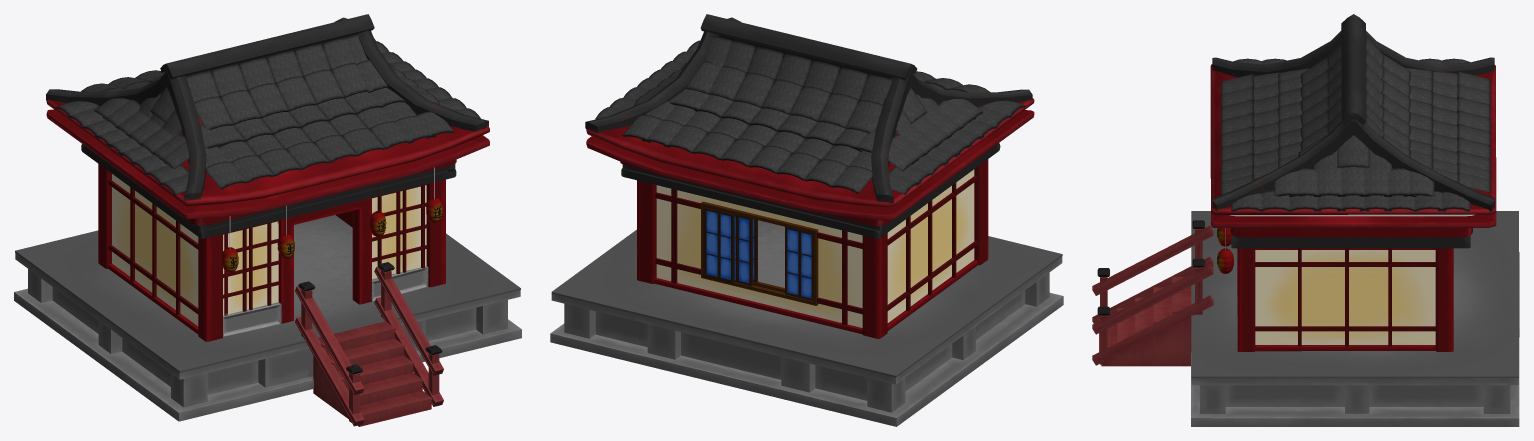
The model's file is casaentera.fbx.
The picture shows the model from 3 angles, left to right: view 1: azimuth 30°, elevation 25°; view 2: azimuth 150°, elevation 25°; view 3: azimuth 270°, elevation 25°; orthographic projection.
Parts seen in each view (by area): view 1: Base, Tejado, BaseCasa, Tejas109, Tejas110, Tejas108, Tejas111, Tejas112, Tejas107, Tejas114, Tejas116, Tejas117 (+26 smaller); view 2: Base, Tejado, BaseCasa, Ventana2, Tejas069, Tejas072, Tejas071, Tejas070, Tejas068, Tejas073, Tejas077, Tejas078 (+31 smaller); view 3: Base, Tejado, BaseCasa, Palo_019, Palo_016, Tejas019, Tejas012, tabla techo01, Tejas015, Tejas013, Tejas014, Tejas016 (+30 smaller).
Part boxes in pixels (x1,y1,x2,y2): Base: [14, 215, 521, 426]; Tejado: [46, 14, 489, 238]; BaseCasa: [98, 164, 445, 341]; Tejas109: [275, 76, 316, 111]; Tejas110: [248, 83, 289, 117]; Tejas108: [303, 69, 344, 104]; Tejas111: [220, 89, 261, 124]; Tejas112: [194, 96, 233, 129]; Tejas107: [331, 62, 368, 97]; Tejas114: [294, 44, 330, 75]; Tejas116: [239, 57, 275, 89]; Tejas117: [211, 64, 247, 95]; Base: [550, 220, 1063, 426]; Tejado: [585, 14, 1034, 238]; BaseCasa: [637, 159, 988, 338]; Ventana2: [701, 201, 818, 305]; Tejas069: [733, 72, 775, 107]; Tejas072: [817, 93, 859, 128]; Tejas071: [789, 86, 831, 121]; Tejas070: [761, 79, 803, 114]; Tejas068: [708, 65, 747, 100]; Tejas073: [846, 100, 882, 133]; Tejas077: [804, 60, 840, 92]; Tejas078: [832, 67, 868, 99]; Base: [1092, 211, 1519, 426]; Tejado: [1210, 14, 1496, 248]; BaseCasa: [1237, 248, 1453, 351]; Palo_019: [1255, 326, 1435, 331]; Palo_016: [1255, 262, 1435, 266]; Tejas019: [1337, 135, 1369, 167]; Tejas012: [1384, 168, 1416, 197]; tabla techo01: [1229, 214, 1474, 216]; Tejas015: [1359, 173, 1392, 196]; Tejas013: [1289, 168, 1321, 197]; Tejas014: [1313, 173, 1345, 197]; Tejas016: [1337, 173, 1369, 196].
Bounding box in the file's own units: 692 × 553 × 751.
